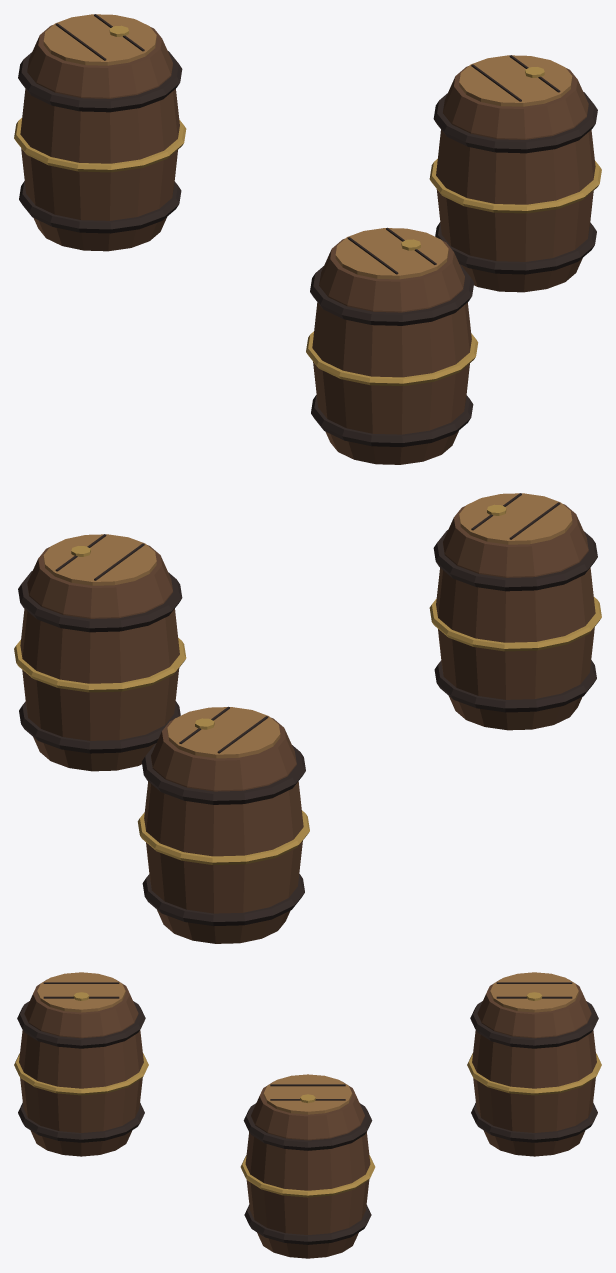
The model's file is PirateCove_BarrelChicane_Showcase.glb.
3 views of the same model, one above another, from view 1: azimuth 30°, elevation 25°; view 2: azimuth 150°, elevation 25°; view 3: azimuth 270°, elevation 25° (orthographic). The views are drawn at different scales.
Parts seen in each view (by area): view 1: PirateCove_BarrelChicane_Showcase; view 2: PirateCove_BarrelChicane_Showcase; view 3: PirateCove_BarrelChicane_Showcase.
Boxes of the visible parts, left/top/right/bottom form: PirateCove_BarrelChicane_Showcase: left=14, top=14, right=601, bottom=464; PirateCove_BarrelChicane_Showcase: left=14, top=493, right=601, bottom=943; PirateCove_BarrelChicane_Showcase: left=14, top=972, right=601, bottom=1258.
Size of the model in its own units: 2.24 by 0.9724 by 3.5.
